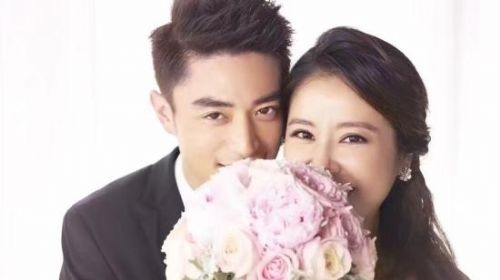face: (179, 58, 293, 185), (283, 92, 390, 223)
